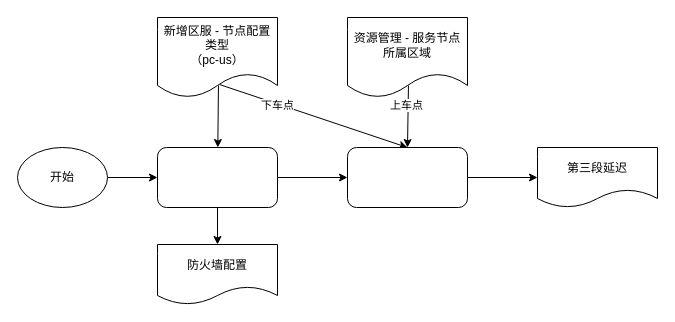
Some shapes in this 675 by 322 pixel diagram are drawn without their labels. The shapes that lost their labels are listed below. From the top down, each one's centre as x and y in pixels, then its label:
the point at 217,177: 游戏 - 区服 （ 区服id ）
the point at 407,177: 选择 节点
